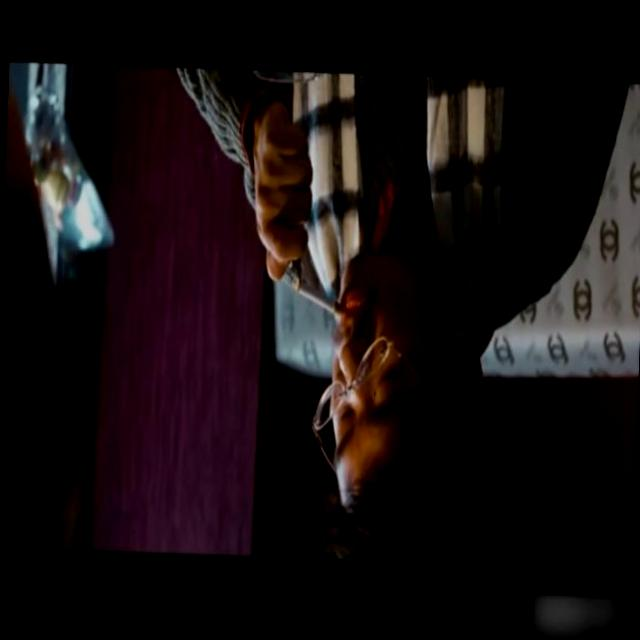cigarette: (290, 272, 352, 329)
